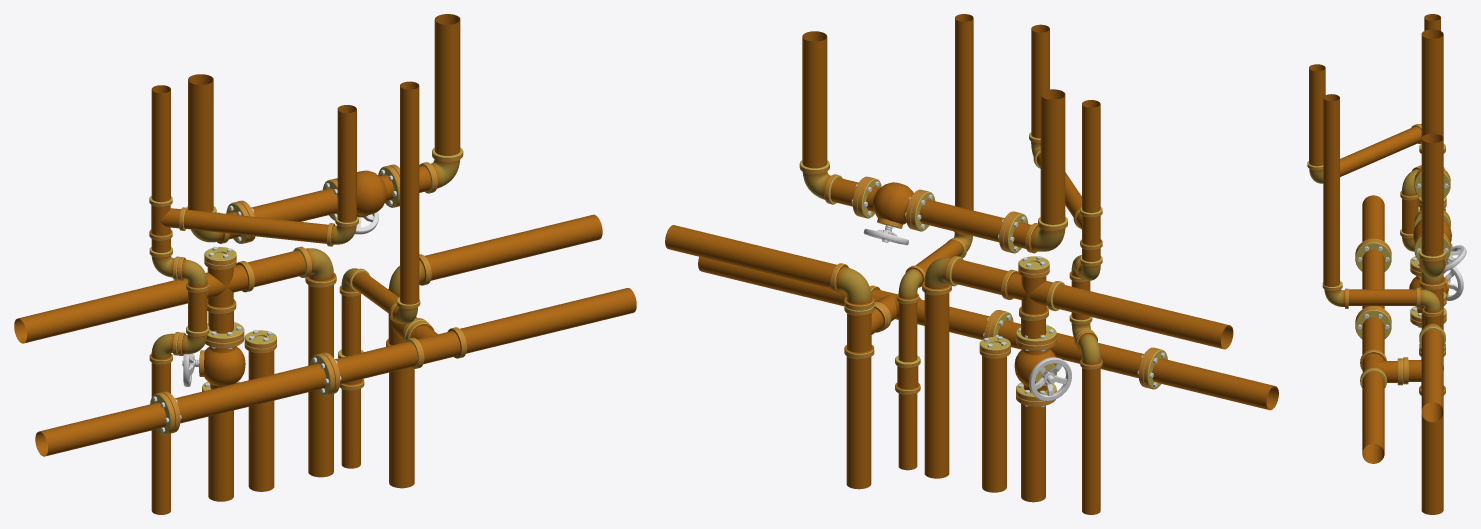
File: background_pipes.fbx
The picture shows the model from 3 angles, left to right: view 1: azimuth 30°, elevation 25°; view 2: azimuth 150°, elevation 25°; view 3: azimuth 270°, elevation 25°; orthographic projection. The views are drawn at different scales.
Visible parts, largest first — view 1: pipe_connect_T_yellow.096; view 2: pipe_connect_T_yellow.096; view 3: pipe_connect_T_yellow.096.
Part boxes in pixels (<box>): pipe_connect_T_yellow.096: <box>14,14,636,514</box>; pipe_connect_T_yellow.096: <box>665,14,1278,514</box>; pipe_connect_T_yellow.096: <box>1307,14,1466,514</box>.
Bounding box in the file's own units: 4391 × 3224 × 1190.
